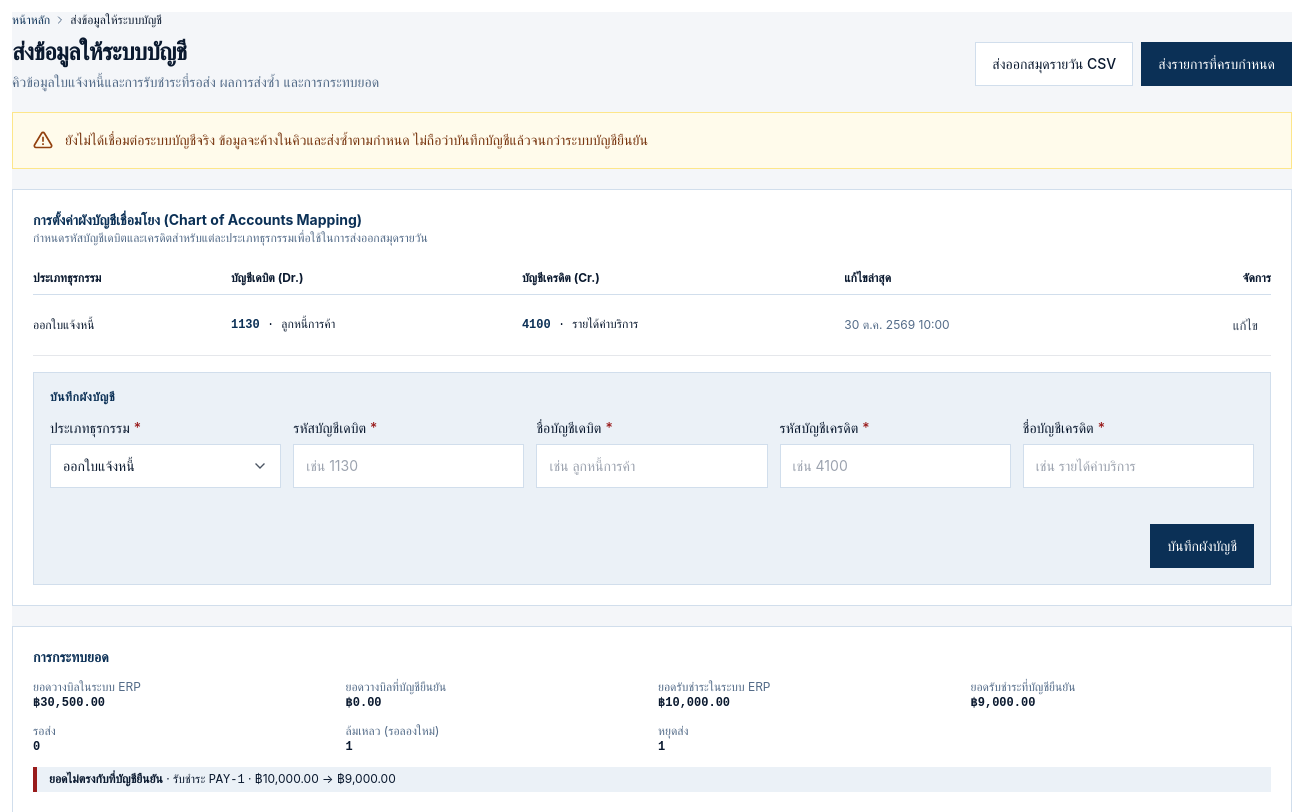
Test: FinanceSyncPage › displays existing COA mappings, submits a new COA mapping, and exports journal CSV
Expected: the text "1130" is shown, [231,318,260,332]
Expected: the text "4100" is shown, [522,318,551,332]
# Fill COA upsert form
Select "รับชำระ" in the dropdown labelled "ประเภทธุรกรรม *". click: (166, 466)
box: [50,444,281,488]
Type "1110" into the field with placeholder "เช่น 1130". click: (409, 466)
box: [293,444,524,488]
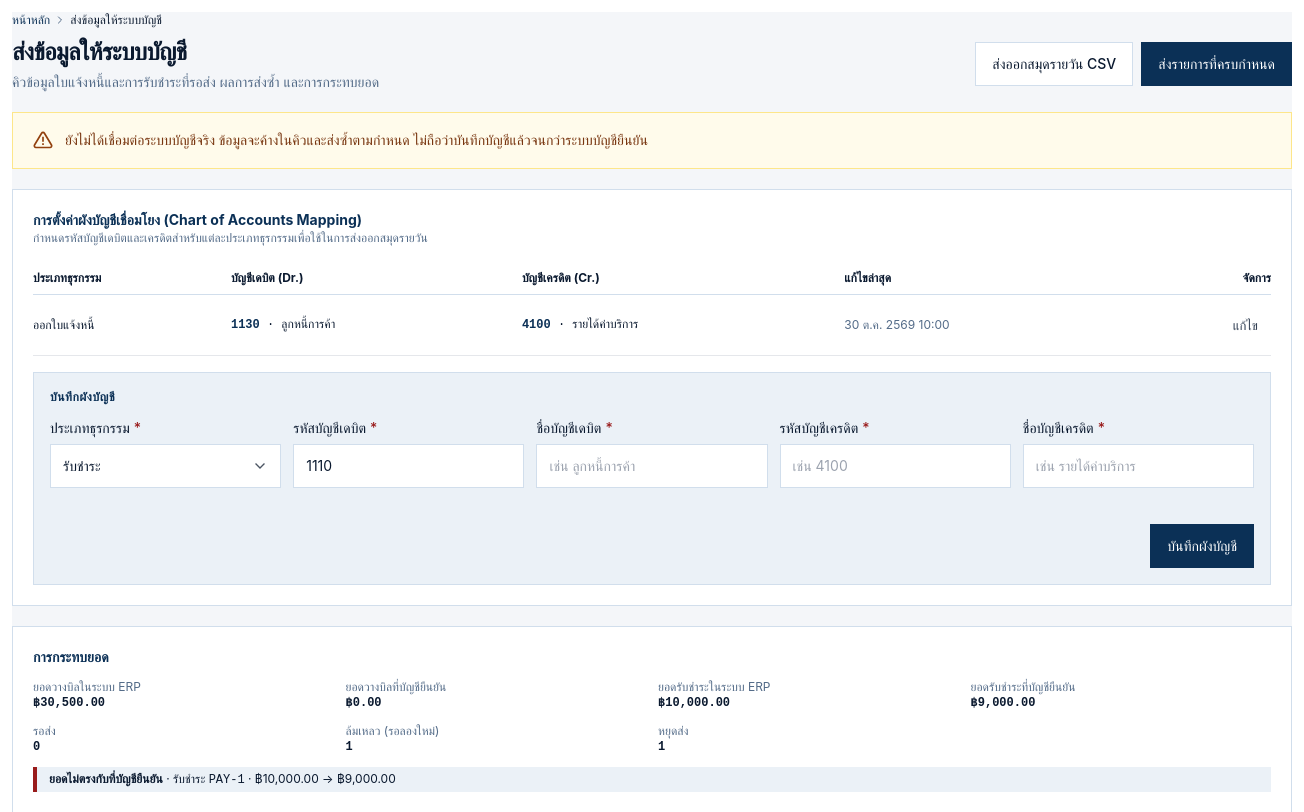
Type "เงินฝากธนาคาร" into the field with placeholder "เช่น ลูกหนี้การค้า". click: (652, 466)
box: [536,444,768,488]
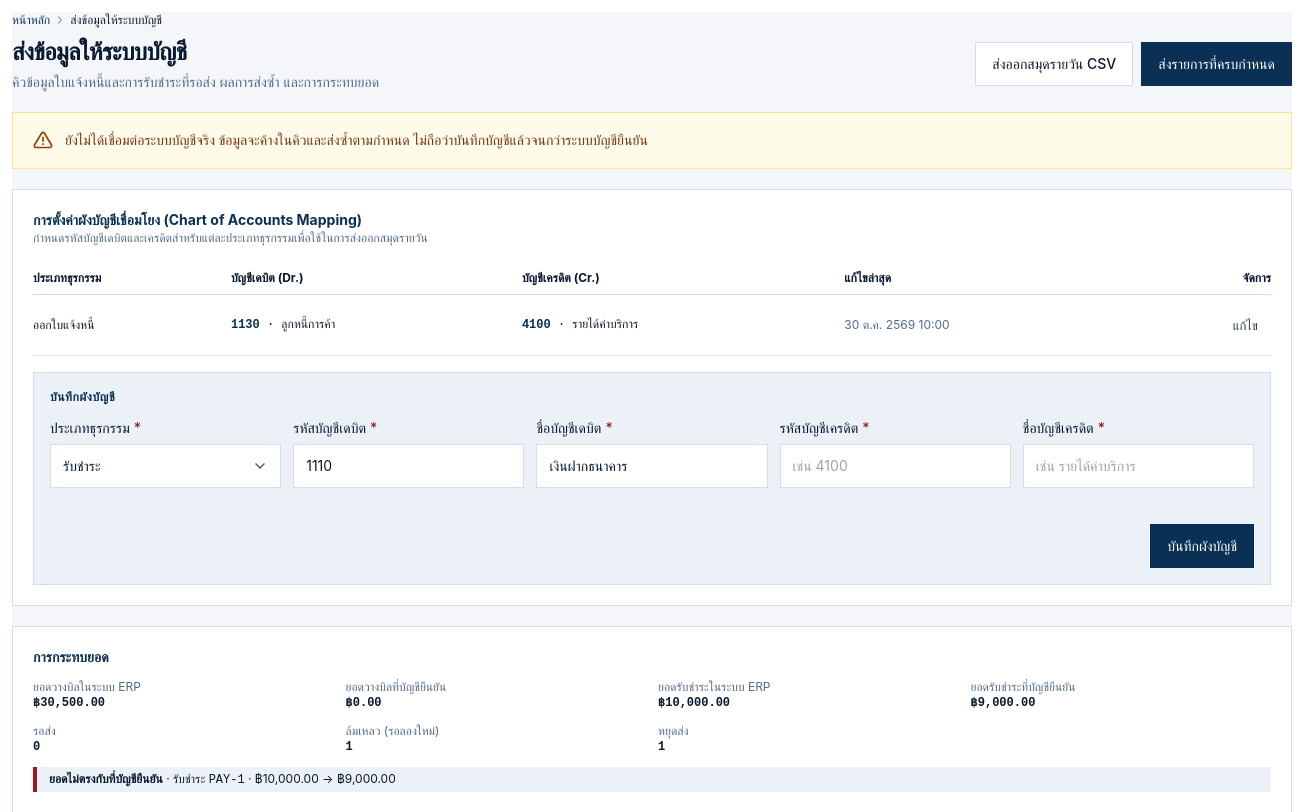
Type "1130" into the field with placeholder "เช่น 4100". click: (895, 466)
box: [780,444,1011,488]
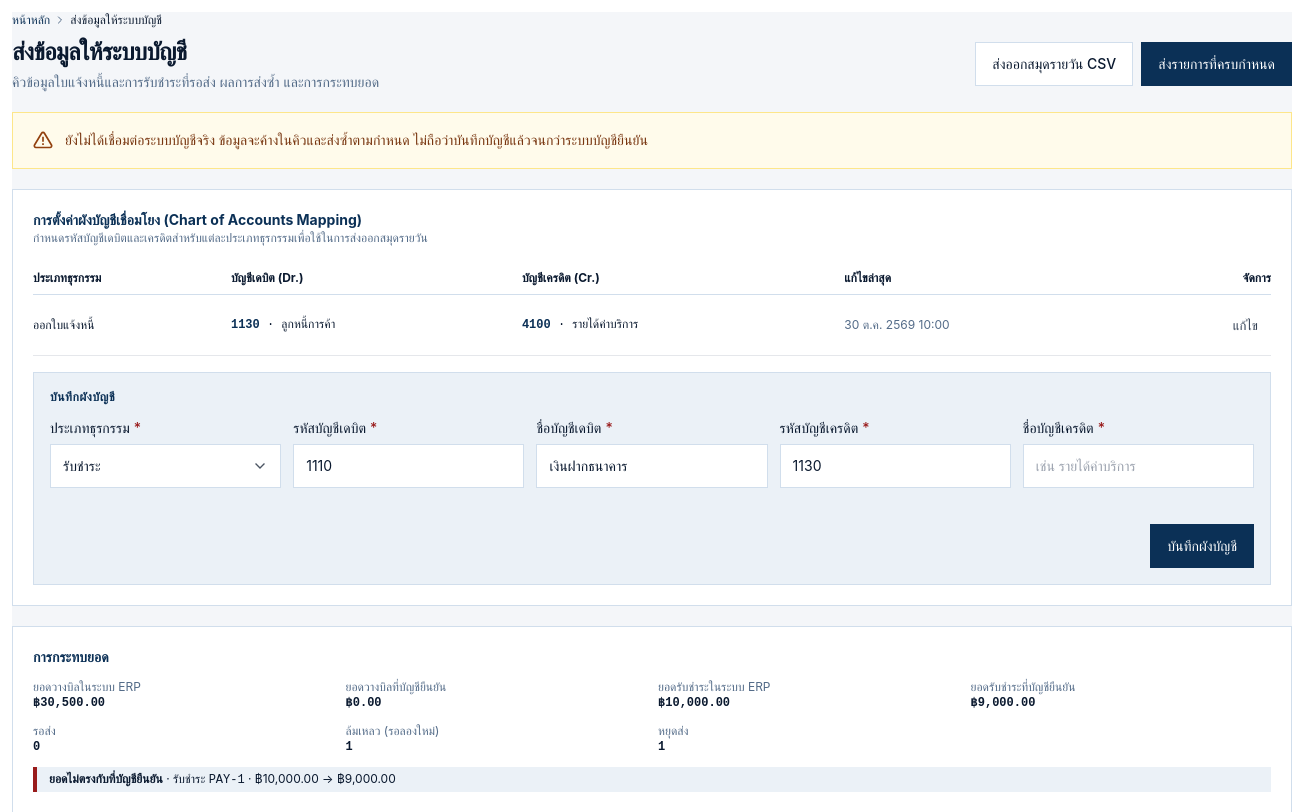
Type "ลูกหนี้การค้า" into the field with placeholder "เช่น รายได้ค่าบริการ". click: (1138, 466)
box: [1023,444,1254,488]
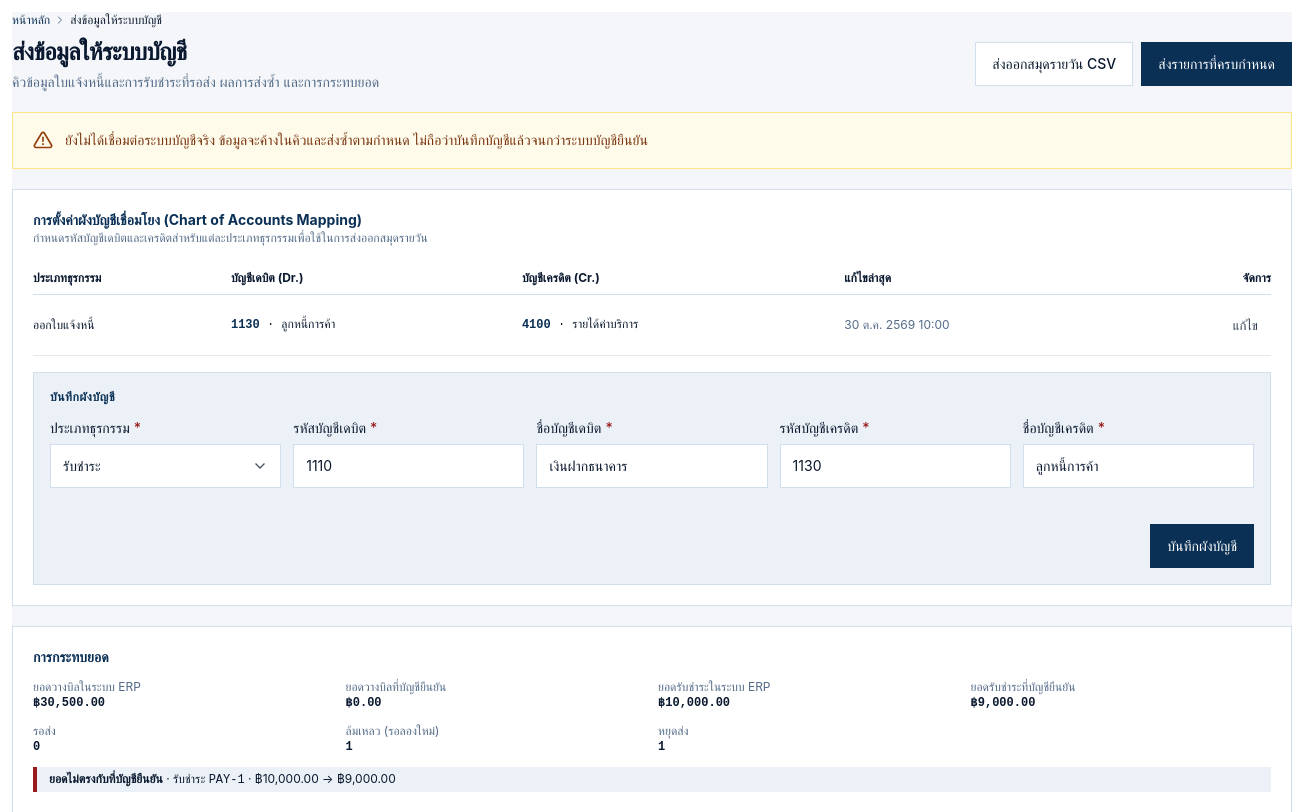
Click the button "บันทึกผังบัญชี". click: (1202, 546)
box: [1150,524,1254,568]
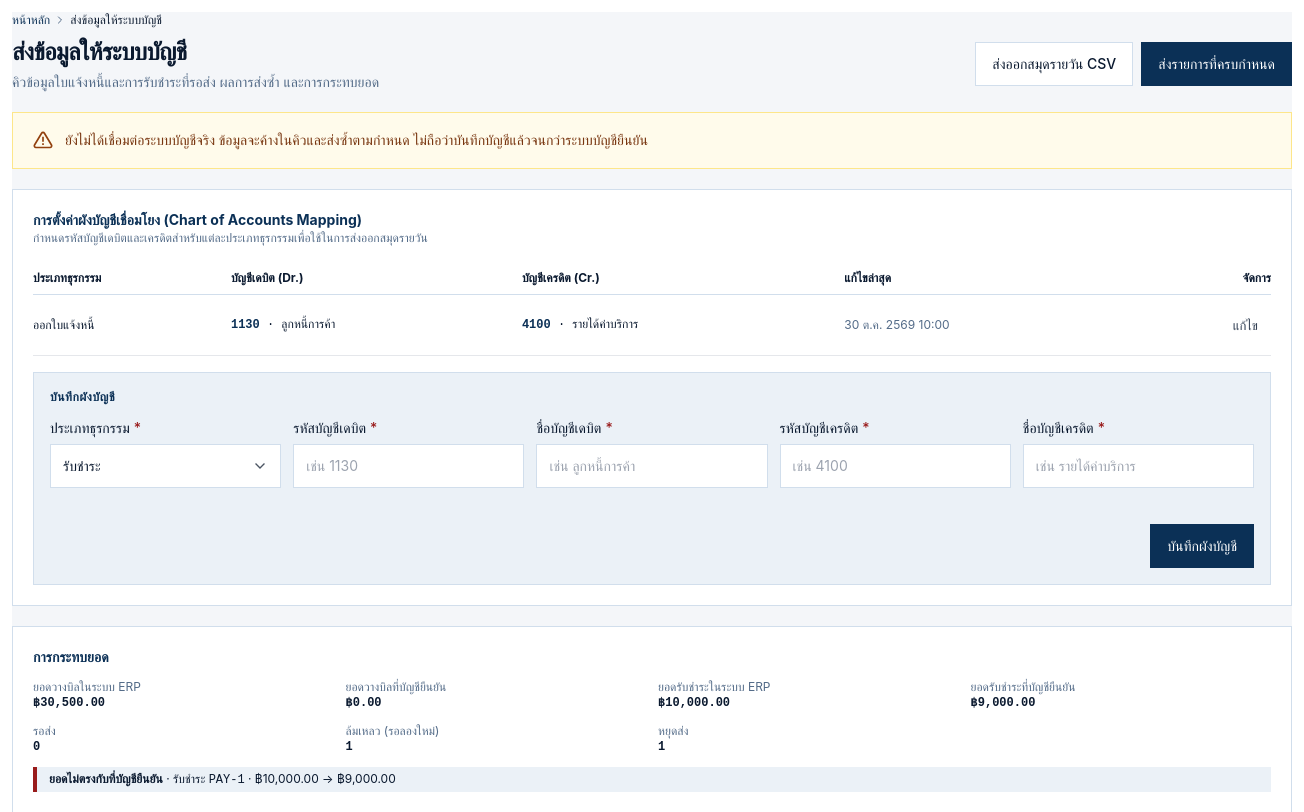
# Trigger journal export
Click the button "ส่งออกสมุดรายวัน CSV". click: (1054, 64)
box: [975,42,1133,86]
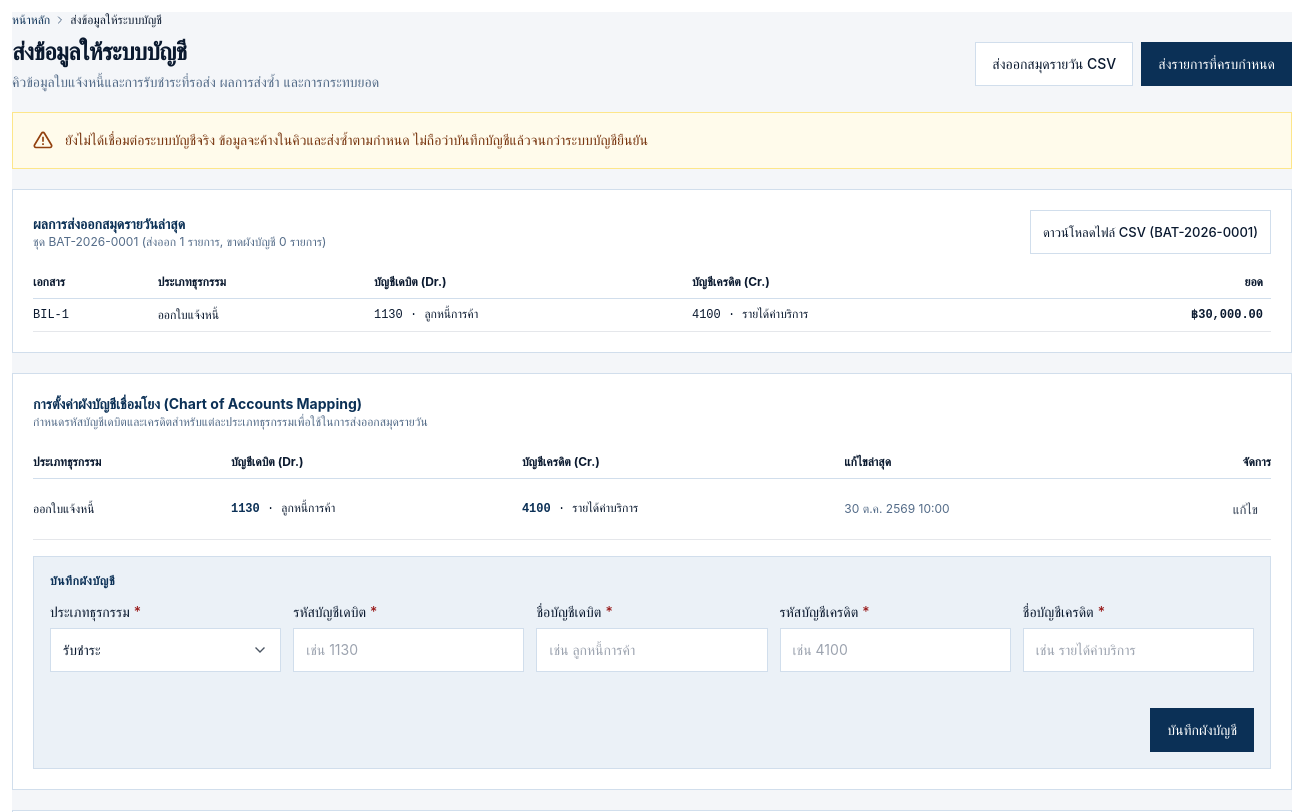
Result: the heading "ผลการส่งออกสมุดรายวันล่าสุด" is shown at [33,215,185,232]
